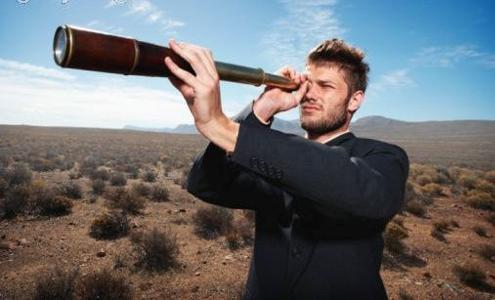person: (167, 38, 408, 299)
